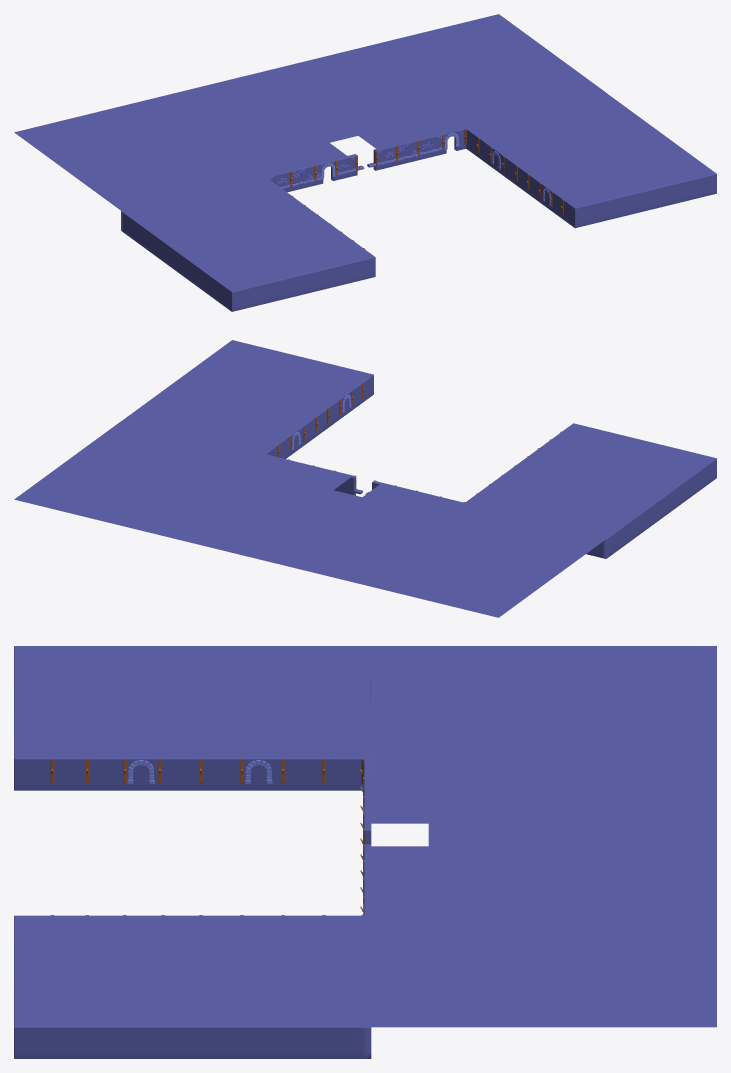
File: OuterWalls.fbx
The picture shows the model from 3 angles, top to bottom: view 1: azimuth 30°, elevation 25°; view 2: azimuth 150°, elevation 25°; view 3: azimuth 270°, elevation 25°; orthographic projection. The views are drawn at different scales.
Parts seen in each view (by area): view 1: pCube362, pCube43; view 2: pCube362, pCube43; view 3: pCube362, pCube43.
Boxes of the visible parts, box(x1,y1,x2,y2) form: pCube362: box(14, 14, 606, 211); pCube43: box(121, 93, 716, 311); pCube362: box(14, 421, 605, 617); pCube43: box(122, 340, 716, 558); pCube362: box(369, 646, 716, 1027); pCube43: box(14, 646, 371, 1058).
Bounding box in the file's own units: 7.69 × 0.3002 × 6.
